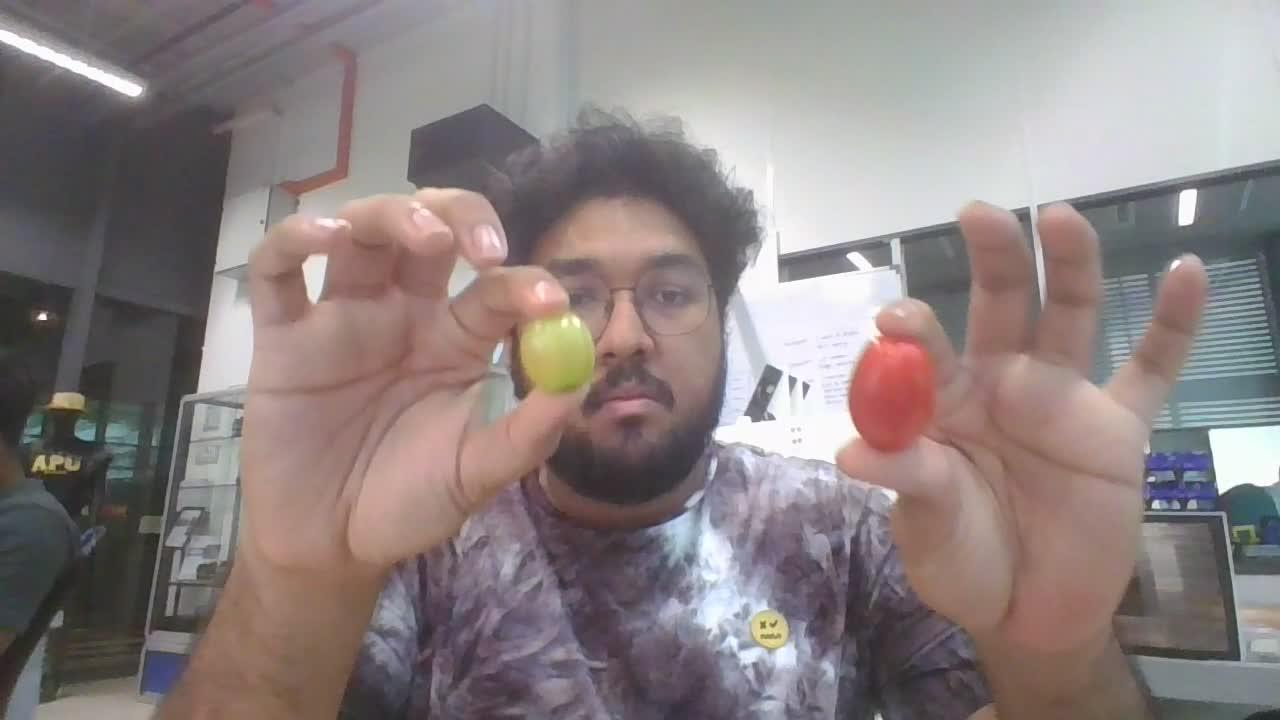green_cherry_tomato: (519, 312, 594, 393)
red_cherry_tomato: (848, 337, 935, 452)
